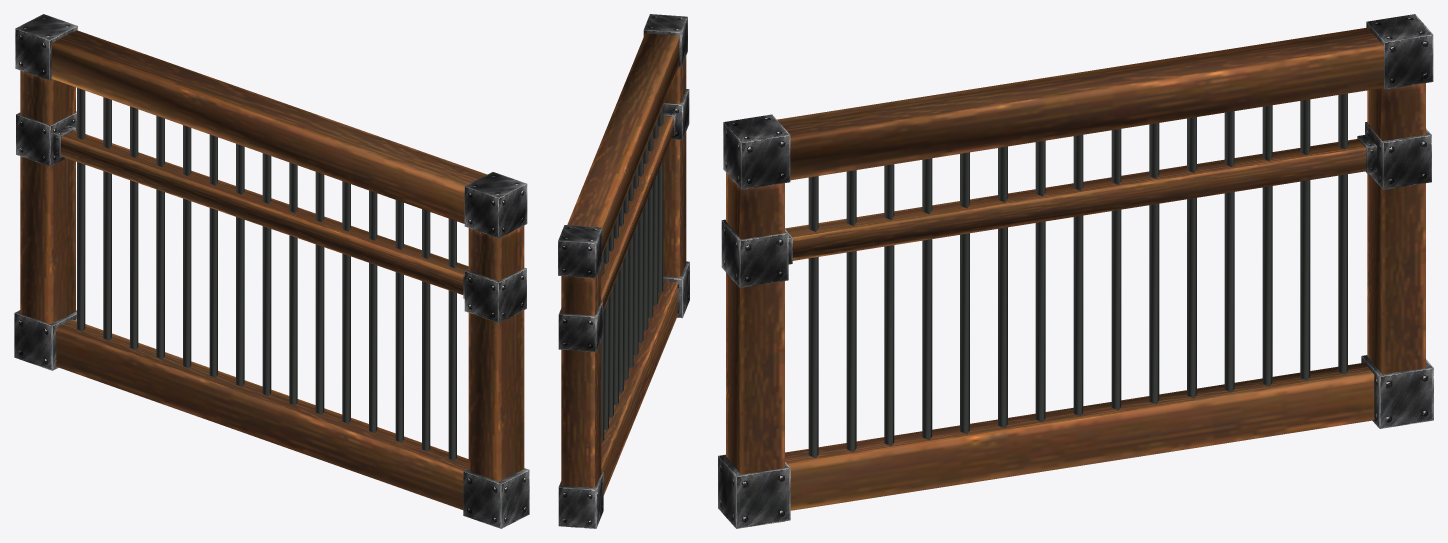
File: SWORDLIGHT20_JAILCELLBARS05.fbx
3 views of the same model, side by side, from view 1: azimuth 30°, elevation 25°; view 2: azimuth 150°, elevation 25°; view 3: azimuth 270°, elevation 25° (orthographic). The views are drawn at different scales.
Parts seen in each view (by area): view 1: SWORDLIGHT20_JAILCELLBARS05; view 2: SWORDLIGHT20_JAILCELLBARS05; view 3: SWORDLIGHT20_JAILCELLBARS05.
Part boxes in pixels (<box>): SWORDLIGHT20_JAILCELLBARS05: <box>14,14,529,528</box>; SWORDLIGHT20_JAILCELLBARS05: <box>558,14,689,528</box>; SWORDLIGHT20_JAILCELLBARS05: <box>718,14,1433,528</box>.
Bounding box in the file's own units: 26385 × 36866 × 61803.
3 materials, 3 textured.
